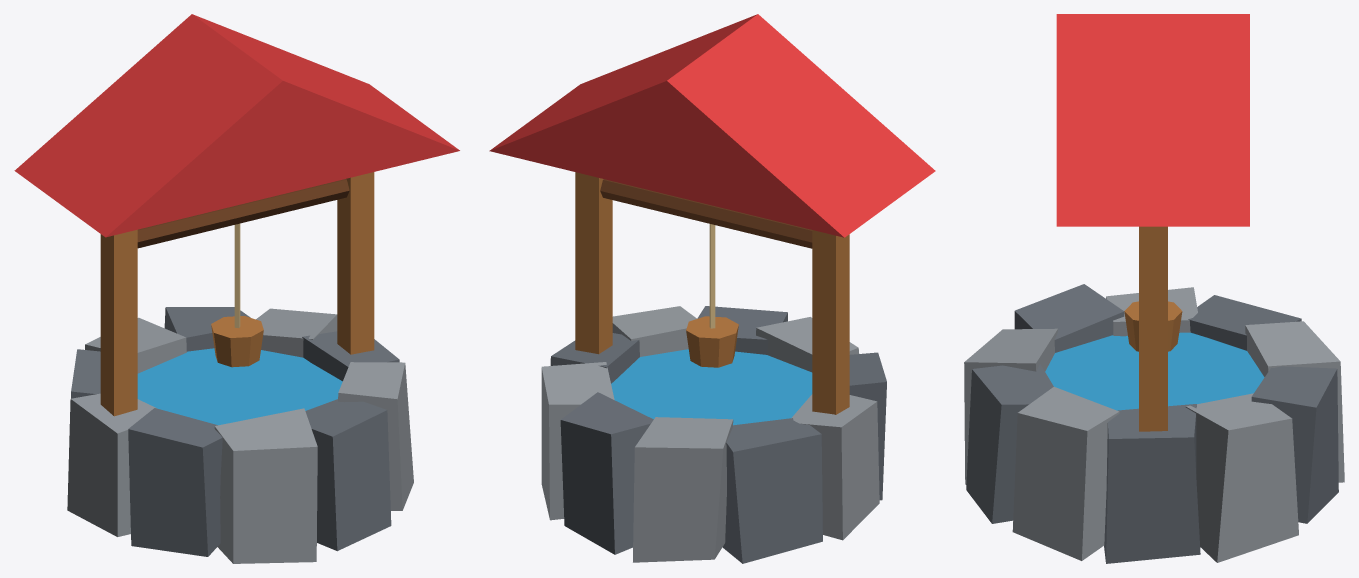
File: Well.fbx
The picture shows the model from 3 angles, left to right: view 1: azimuth 30°, elevation 25°; view 2: azimuth 150°, elevation 25°; view 3: azimuth 270°, elevation 25°; orthographic projection. The views are drawn at different scales.
Visible parts, largest first — view 1: Well; view 2: Well; view 3: Well.
Part boxes in pixels (bbox=[...]): Well: bbox=[14, 14, 459, 563]; Well: bbox=[489, 14, 935, 563]; Well: bbox=[964, 14, 1344, 563].
Bounding box in the file's own units: 5.4 × 6.52 × 4.72.
1 material, 1 textured.
